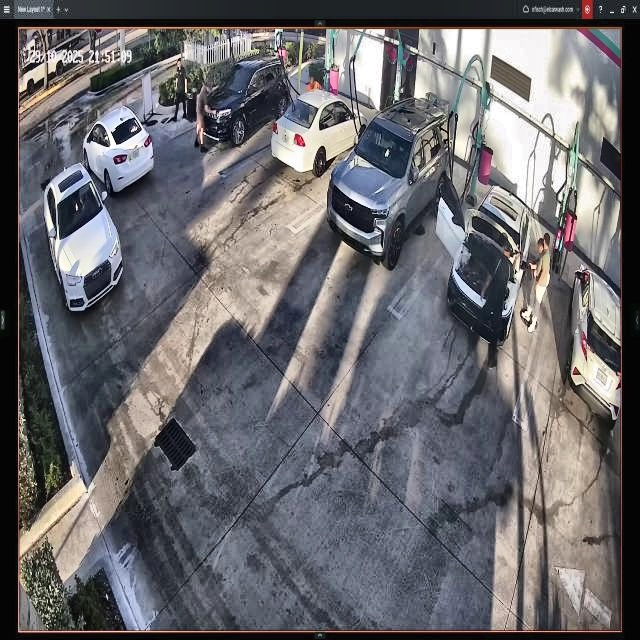Car: (331, 98, 452, 268), (446, 183, 532, 343), (273, 89, 366, 173), (84, 106, 154, 193)
